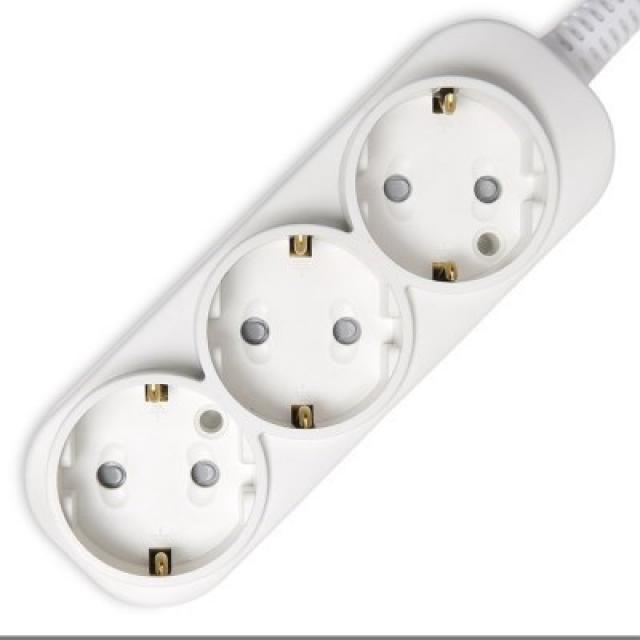typeb: (8, 9, 640, 640)
